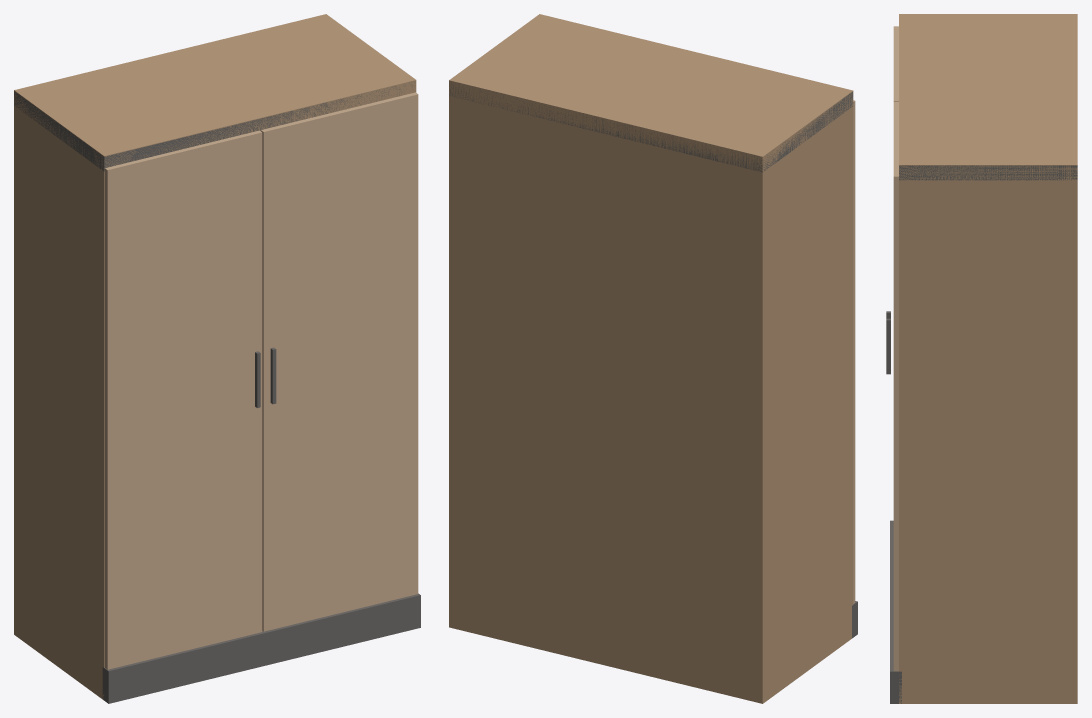
File: demo-armadio.glb
3 renders of one model, left to right at view 1: azimuth 30°, elevation 25°; view 2: azimuth 150°, elevation 25°; view 3: azimuth 270°, elevation 25°, orthographic.
Parts seen in each view (by area): view 1: Anta (×2), Corpo armadio, Zoccolo, Cappello; view 2: Corpo armadio, Cappello, Anta; view 3: Corpo armadio, Anta (×2), Cappello, Zoccolo.
Boxes of the visible parts, x1=… form: Anta (×2): x1=105, y1=92, x2=418, y2=669; Corpo armadio: x1=14, y1=14, x2=416, y2=699; Zoccolo: x1=102, y1=593, x2=420, y2=703; Cappello: x1=14, y1=82, x2=414, y2=171; Corpo armadio: x1=449, y1=14, x2=853, y2=703; Cappello: x1=449, y1=81, x2=853, y2=172; Anta: x1=853, y1=100, x2=855, y2=603; Corpo armadio: x1=899, y1=14, x2=1077, y2=703; Anta (×2): x1=893, y1=26, x2=898, y2=671; Cappello: x1=899, y1=165, x2=1077, y2=180; Zoccolo: x1=890, y1=520, x2=901, y2=703.
Size of the model in its own units: 1.2 by 2 by 0.6425.
